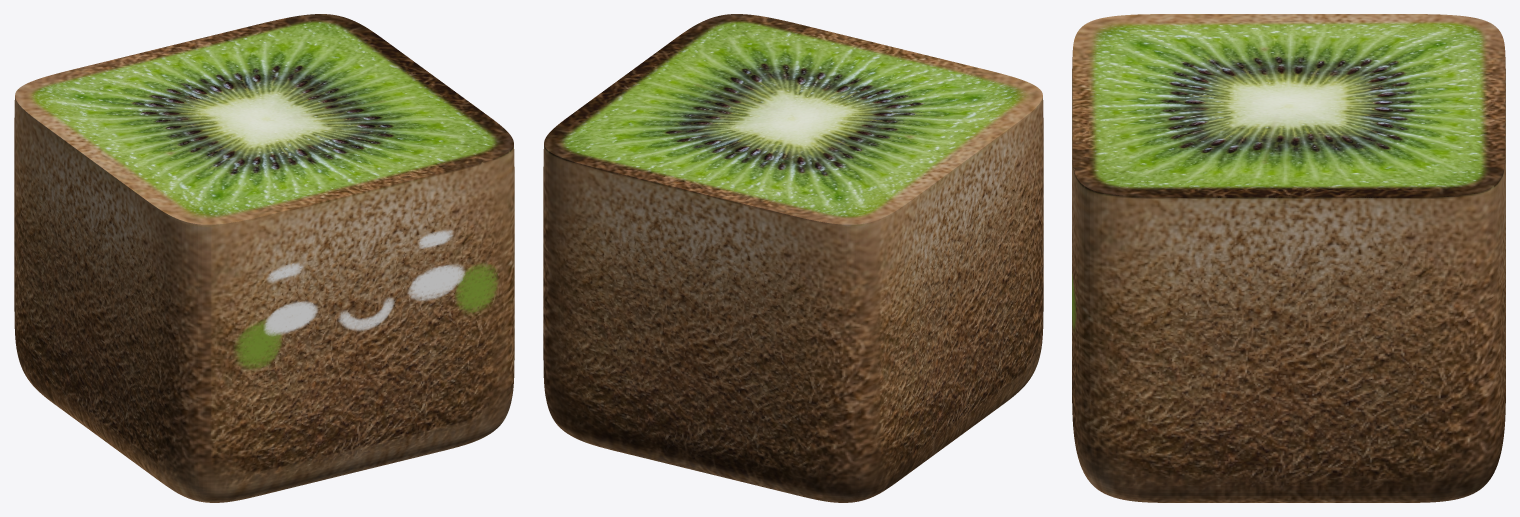
The model's file is Kiwi.glb.
3 views of the same model, side by side, from view 1: azimuth 30°, elevation 25°; view 2: azimuth 150°, elevation 25°; view 3: azimuth 270°, elevation 25° (orthographic). The views are drawn at different scales.
Parts seen in each view (by area): view 1: 상자_상자_상자_상자_상자_상자_상자_상자; view 2: 상자_상자_상자_상자_상자_상자_상자_상자; view 3: 상자_상자_상자_상자_상자_상자_상자_상자.
Boxes of the visible parts, box(x1,y1,x2,y2) form: 상자_상자_상자_상자_상자_상자_상자_상자: box(14, 14, 514, 502); 상자_상자_상자_상자_상자_상자_상자_상자: box(543, 14, 1043, 502); 상자_상자_상자_상자_상자_상자_상자_상자: box(1072, 14, 1505, 502).
Size of the model in its own units: 1 by 0.8323 by 1.
Materials: 1 (1 with a texture image).
